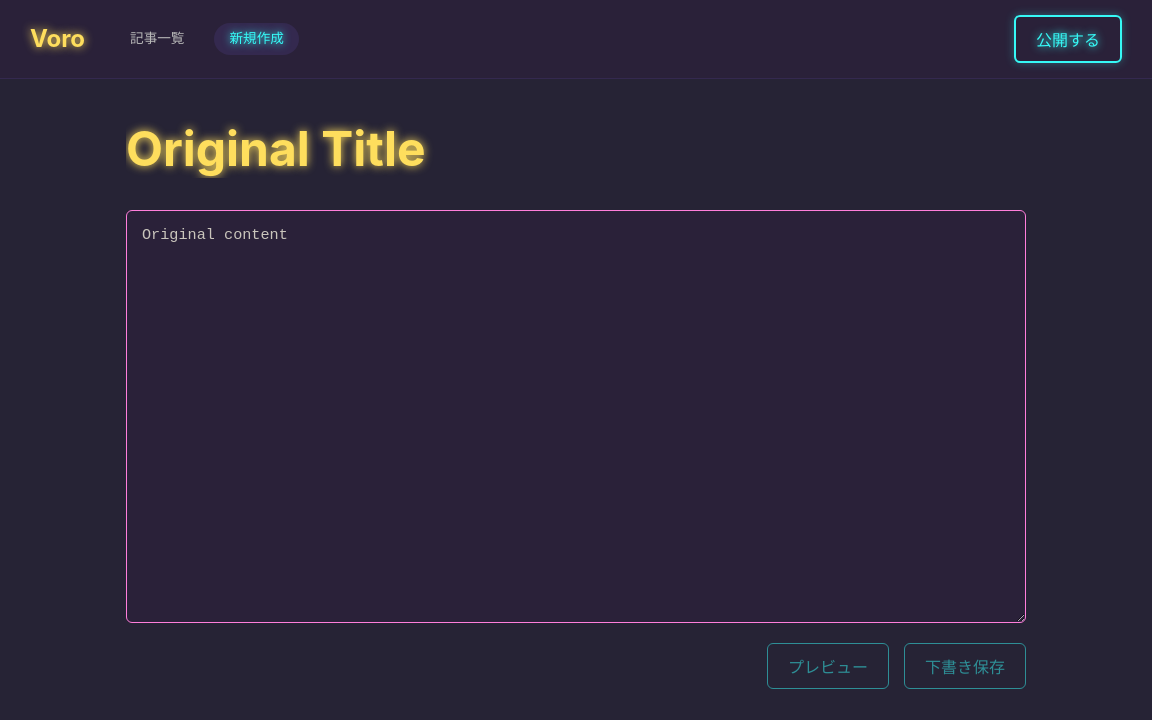
Test: PostEditorPage - Edit Mode › updates post successfully
Note: タイトルを変更（末尾に追加してisDirtyをtrueにする）
Step 1. Type " Updated" into the field showing "Original Title" → (576, 150), box x1=126 y1=109 x2=1026 y2=190
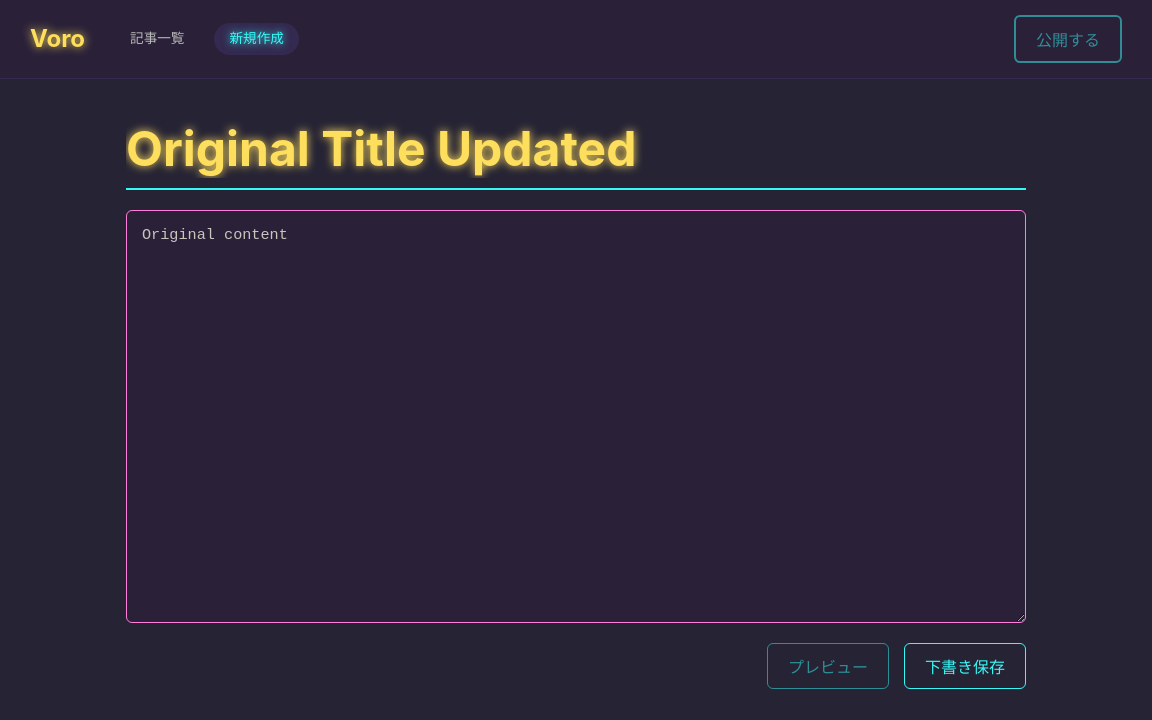
expect the button "下書き保存" is enabled: met
Step 2. Click the button "下書き保存" → click(965, 666), box x1=904 y1=643 x2=1026 y2=689
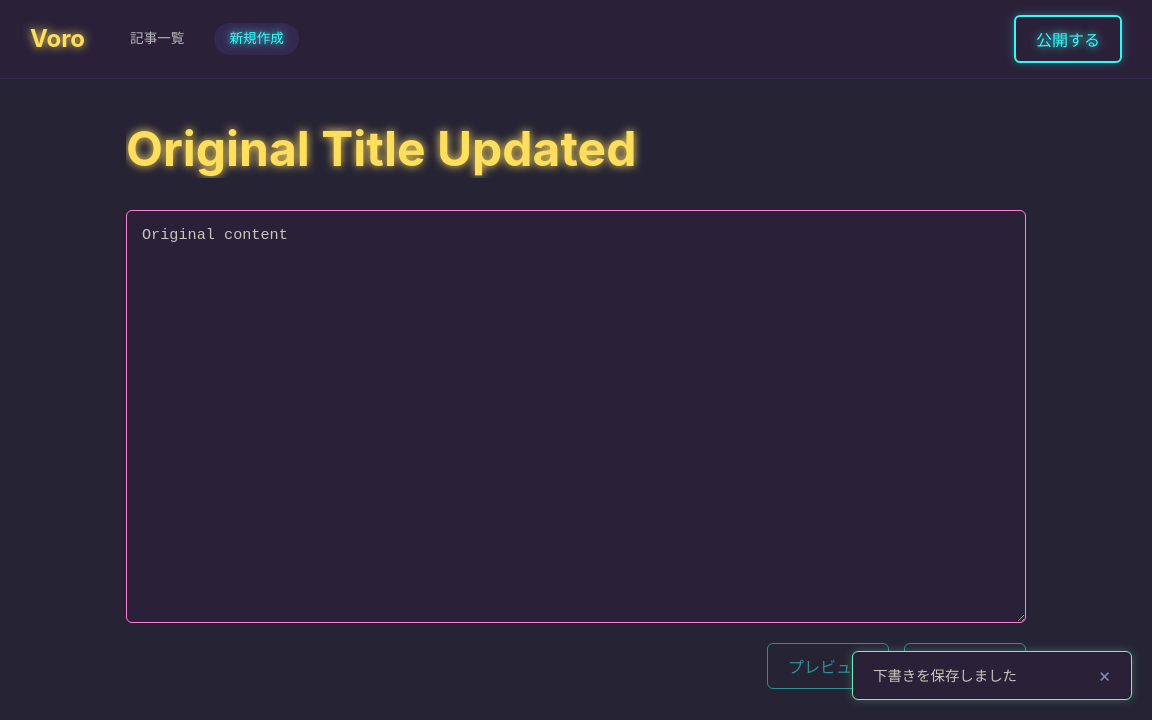
expect the text "下書きを保存しました" is shown: met, box x1=873 y1=667 x2=1017 y2=684
